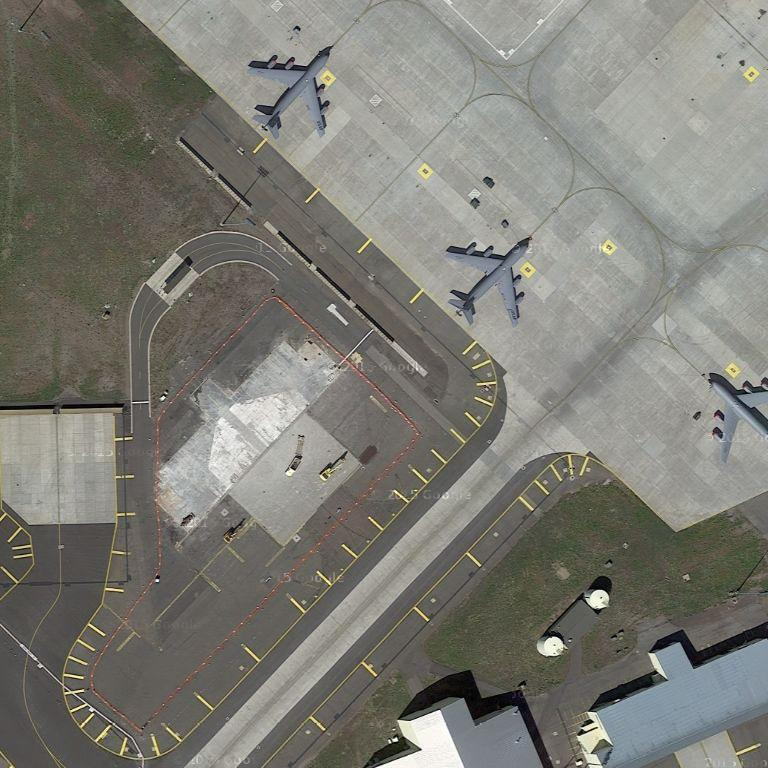KC-135: (241, 42, 339, 140), (441, 231, 534, 326), (699, 364, 767, 464)
